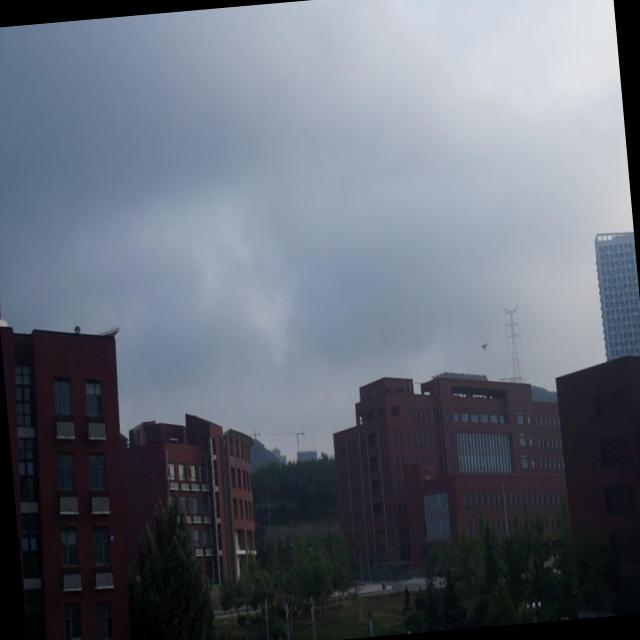drone: (478, 337, 489, 356)
